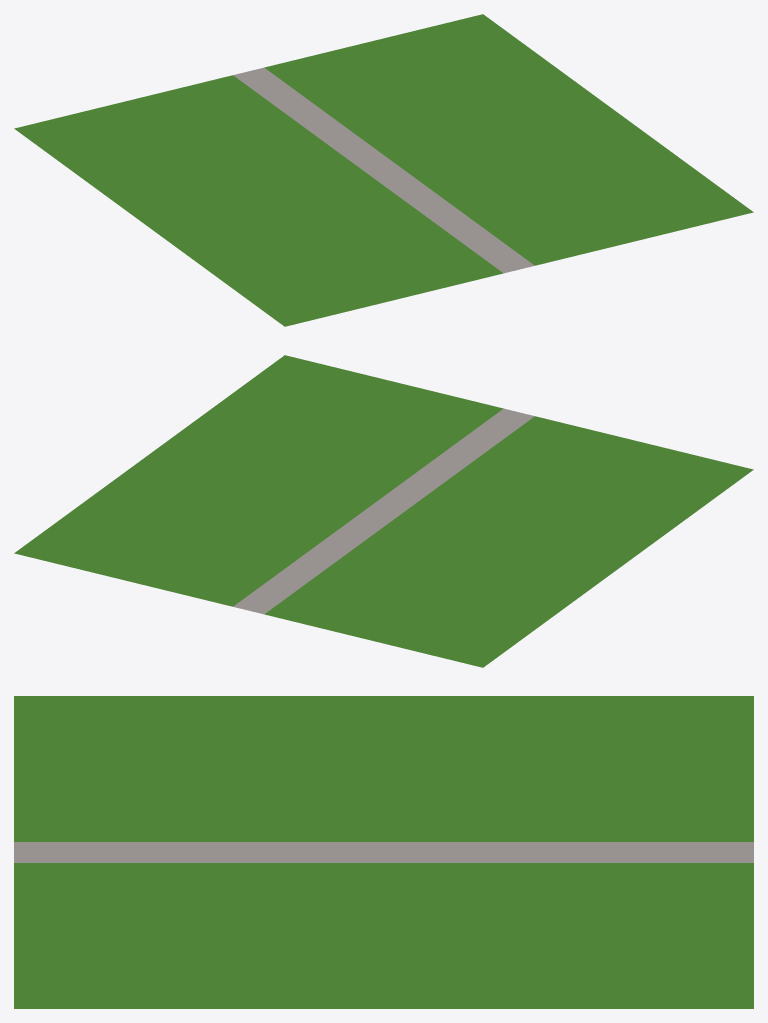
The model's file is tiles-nb-tile-sidewalk-straight-nb.glb.
3 renders of one model, top to bottom at view 1: azimuth 30°, elevation 25°; view 2: azimuth 150°, elevation 25°; view 3: azimuth 270°, elevation 25°, orthographic. The views are drawn at different scales.
Visible parts, largest first — view 1: tile-sidewalk-straight-nb; view 2: tile-sidewalk-straight-nb; view 3: tile-sidewalk-straight-nb.
Boxes of the visible parts, x1,y1,x2,y2 form: tile-sidewalk-straight-nb: [14, 14, 753, 326]; tile-sidewalk-straight-nb: [14, 355, 753, 667]; tile-sidewalk-straight-nb: [14, 696, 753, 1008].
Bounding box in the file's own units: 30 × 2.98e-06 × 30.
